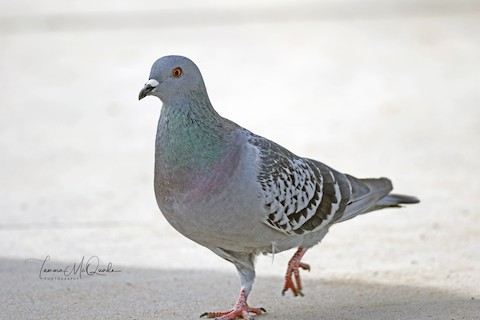pigeon: (134, 52, 425, 313)
